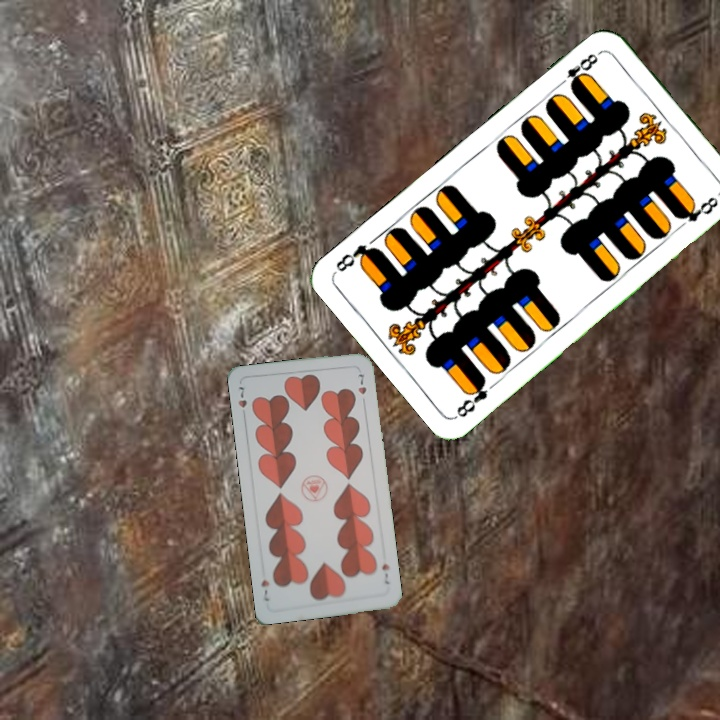E8: (554, 47, 603, 92), (452, 373, 490, 420)
H7: (234, 382, 250, 410), (378, 560, 392, 587)
